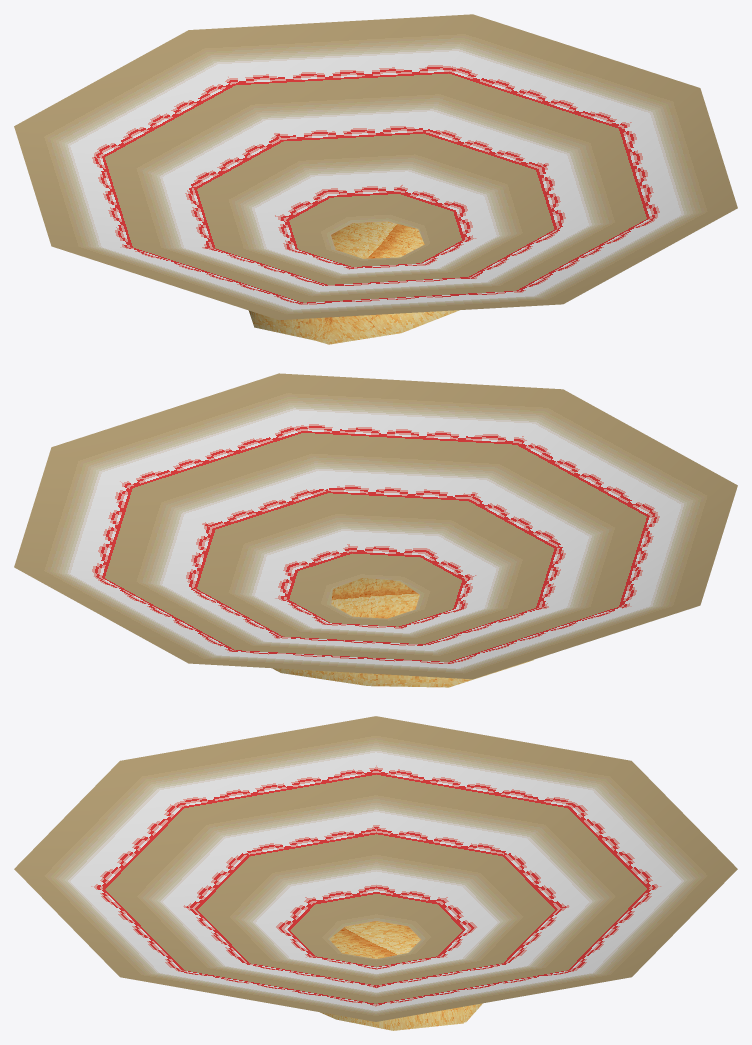
Rendered from 1145ucc_mis_ag2.gltf.
The picture shows the model from 3 angles, top to bottom: view 1: azimuth 30°, elevation 25°; view 2: azimuth 150°, elevation 25°; view 3: azimuth 270°, elevation 25°; orthographic projection. The views are drawn at different scales.
Visible parts, largest first — view 1: 1145ucc_mis_ag2; view 2: 1145ucc_mis_ag2; view 3: 1145ucc_mis_ag2.
Boxes of the visible parts, <box> form: 1145ucc_mis_ag2: <box>14,14,737,344</box>; 1145ucc_mis_ag2: <box>14,373,737,687</box>; 1145ucc_mis_ag2: <box>14,716,737,1030</box>.
Size of the model in its own units: 0.9009 by 0.1672 by 0.9009.
Materials: 4 (4 with a texture image).
